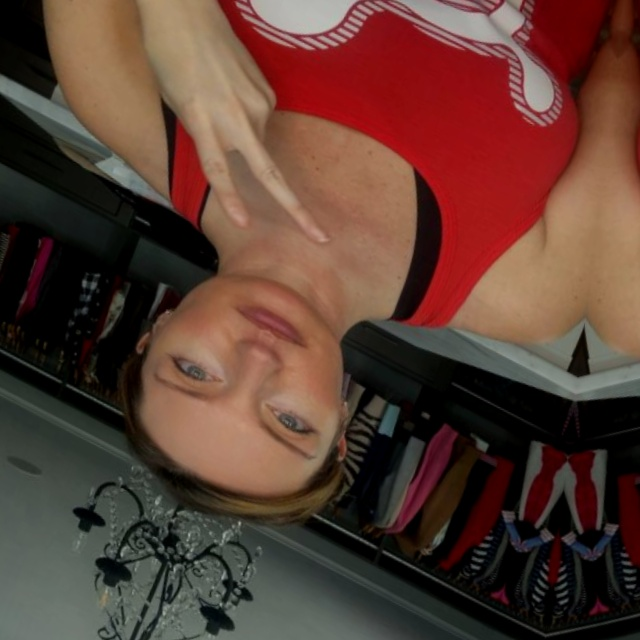Scissors: (90, 0, 392, 271)
